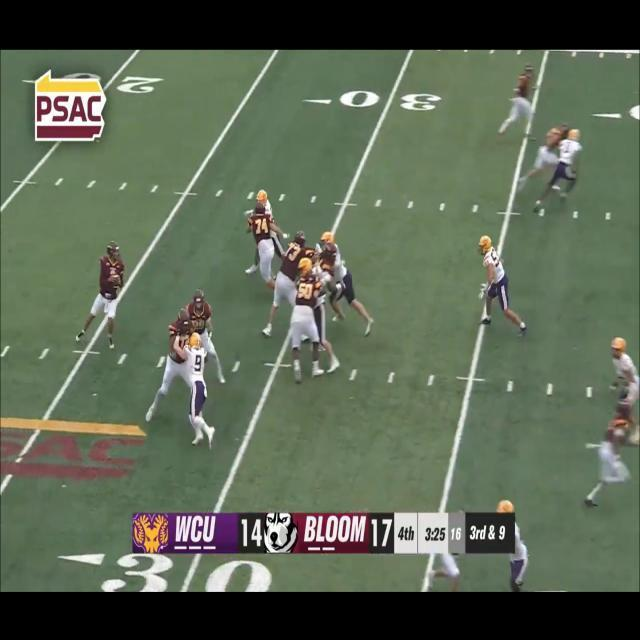football: (112, 269, 124, 300)
